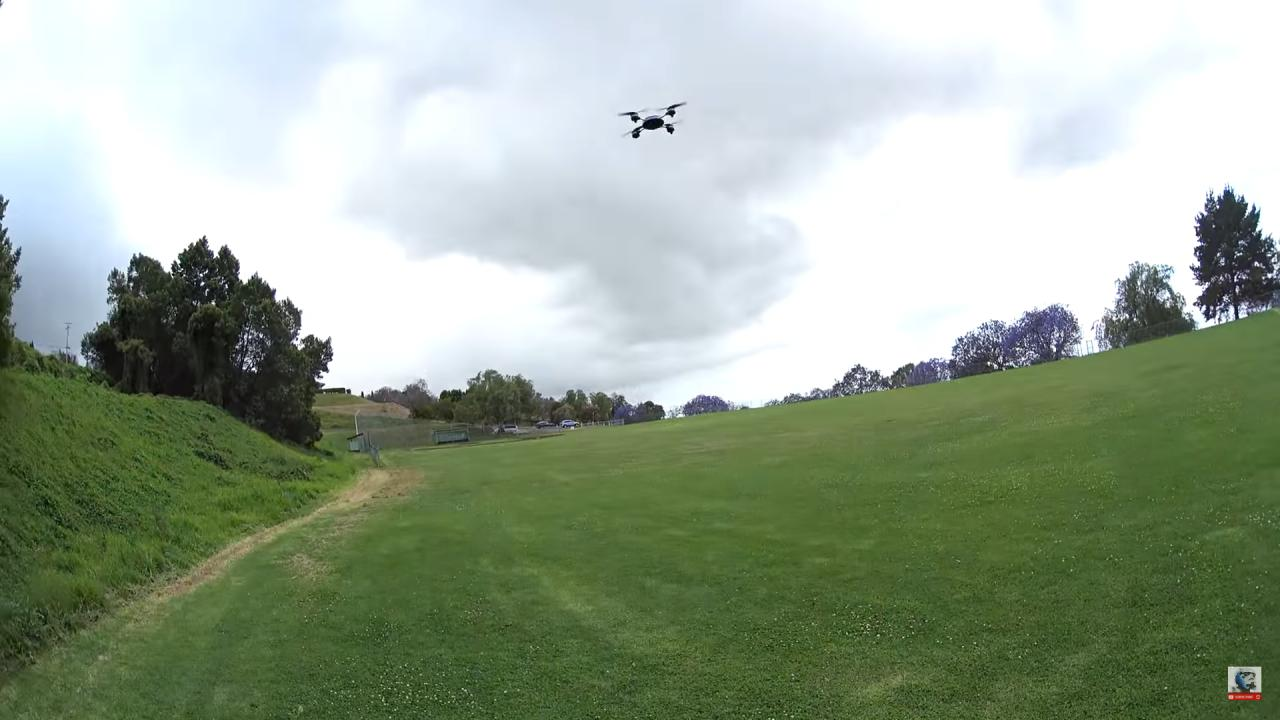Drone: (605, 91, 700, 151)
